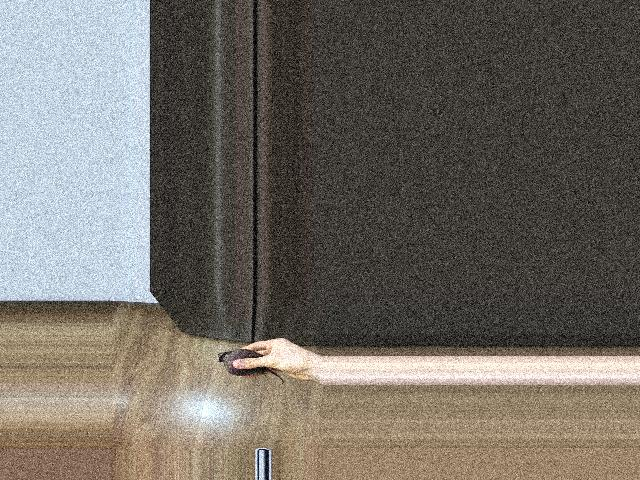beet: (216, 349, 282, 384)
